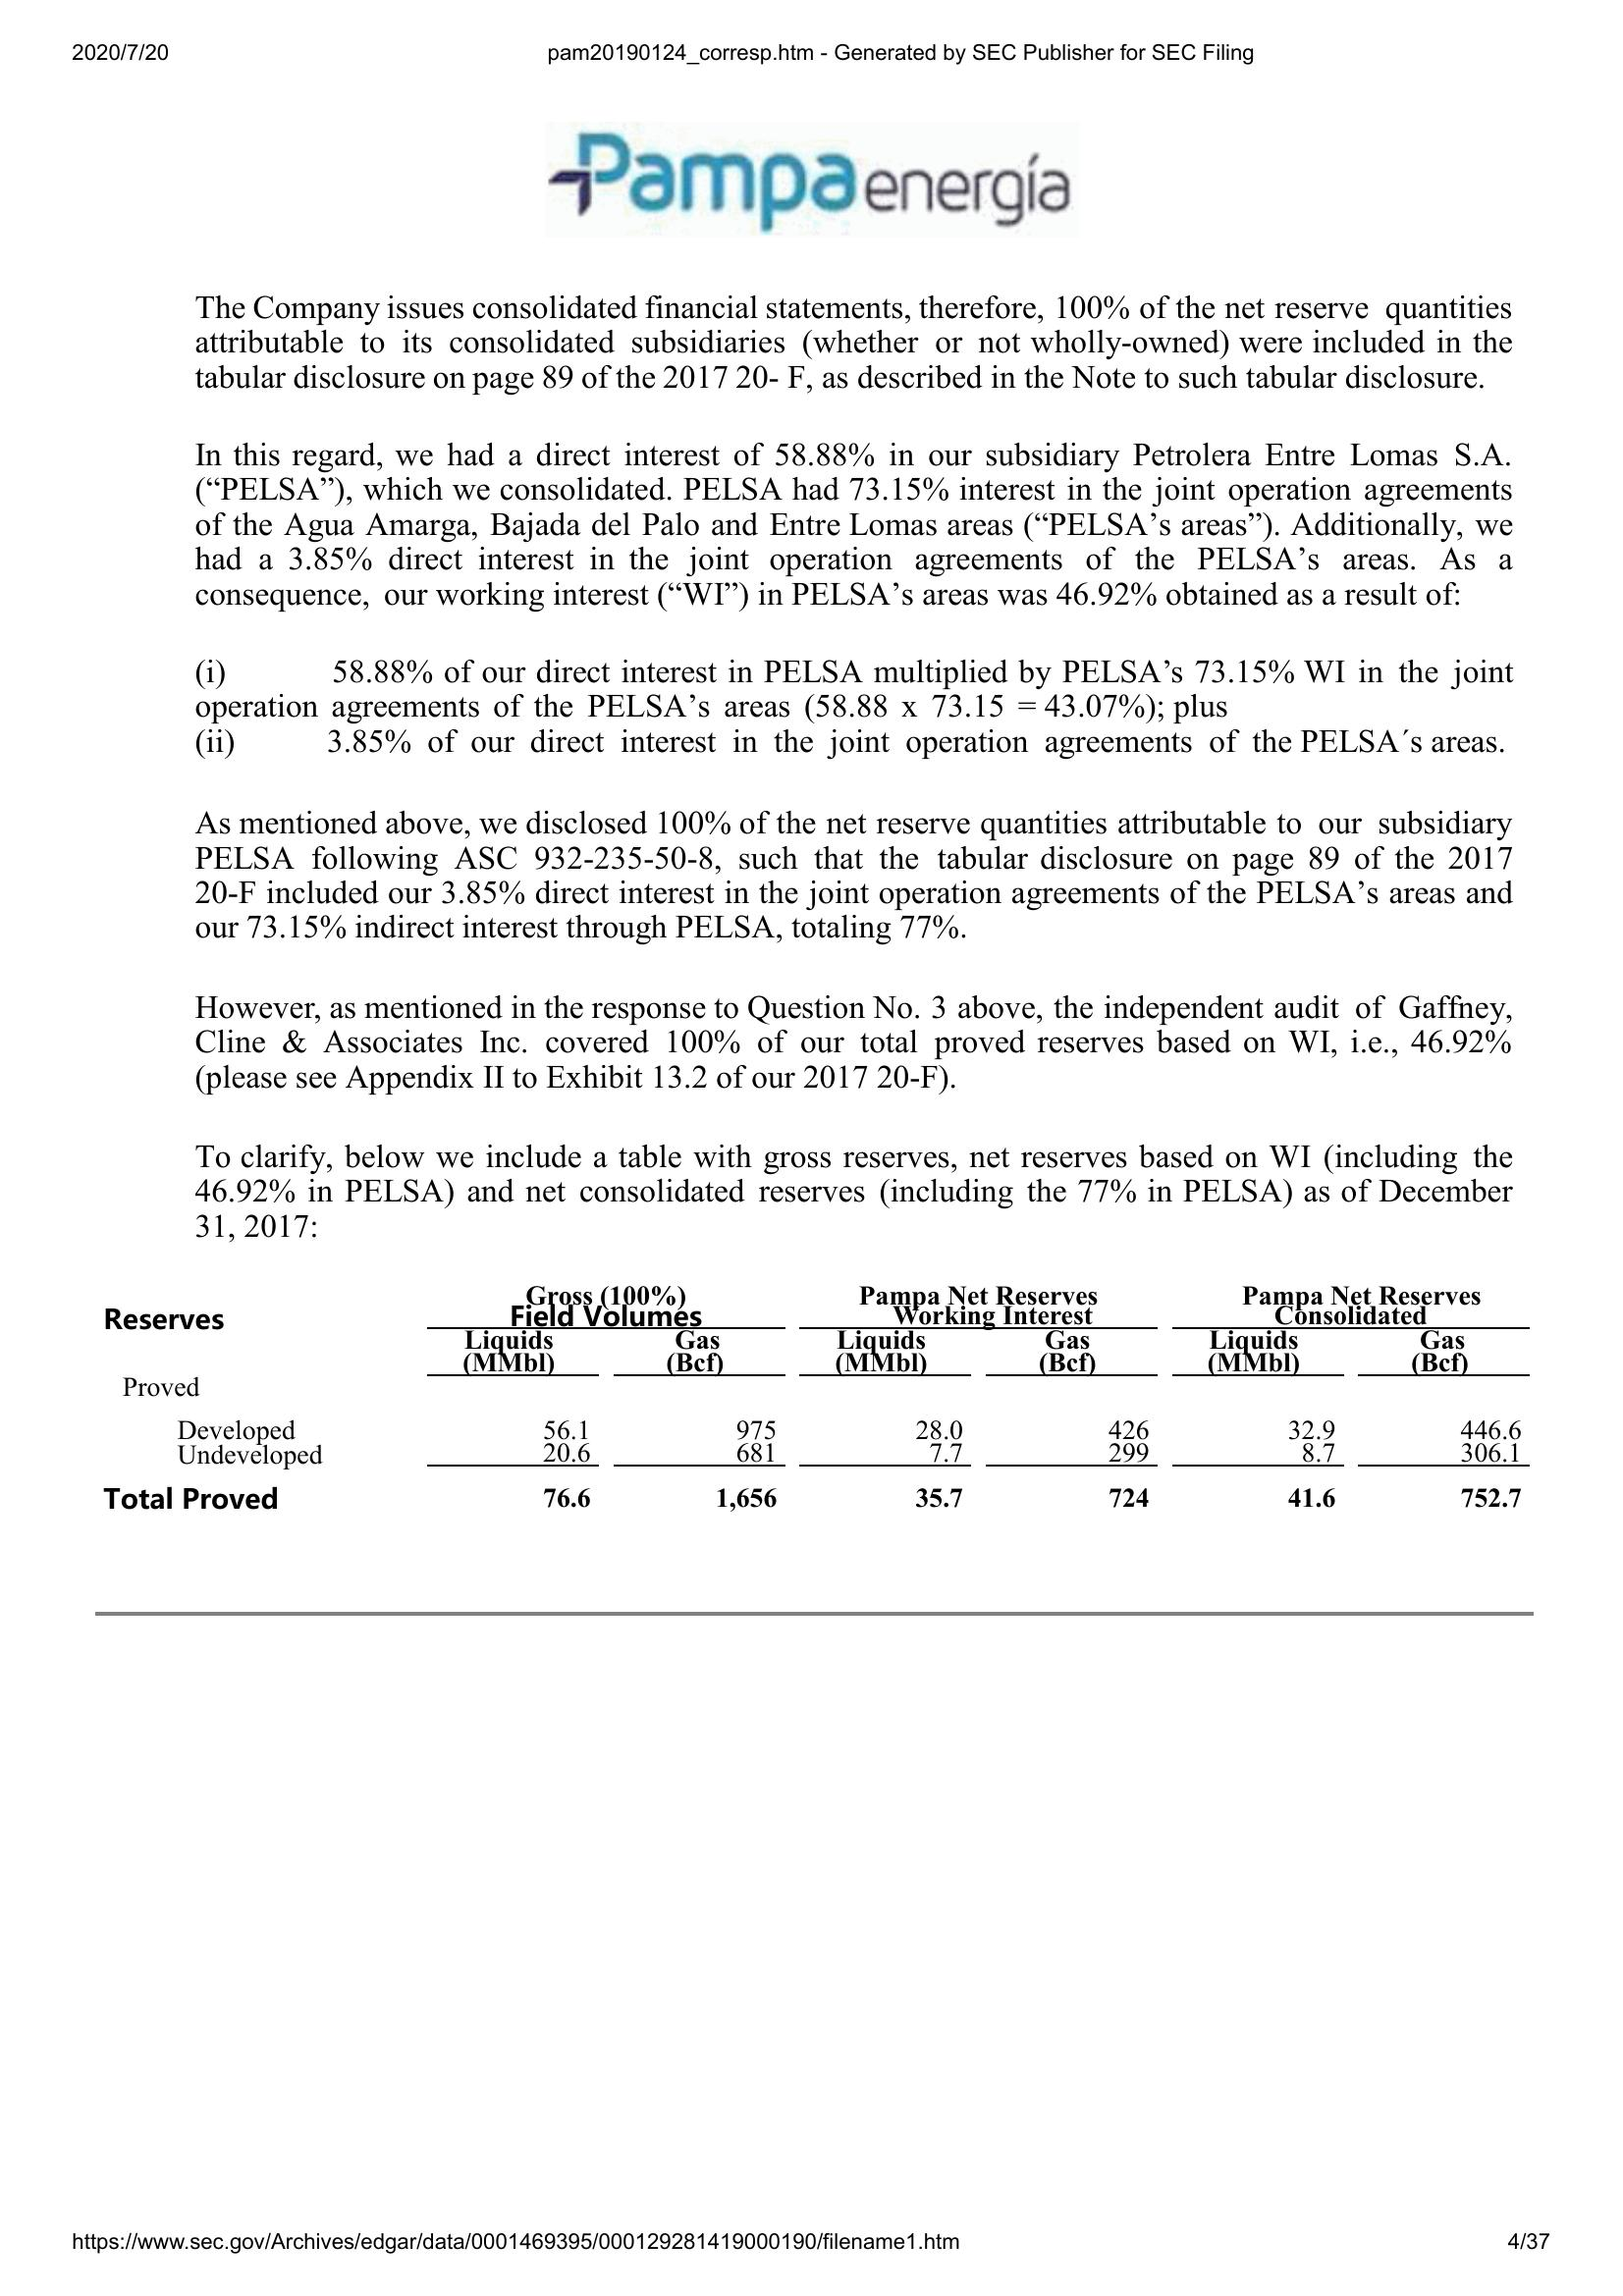table: (102, 1281, 1537, 1522)
